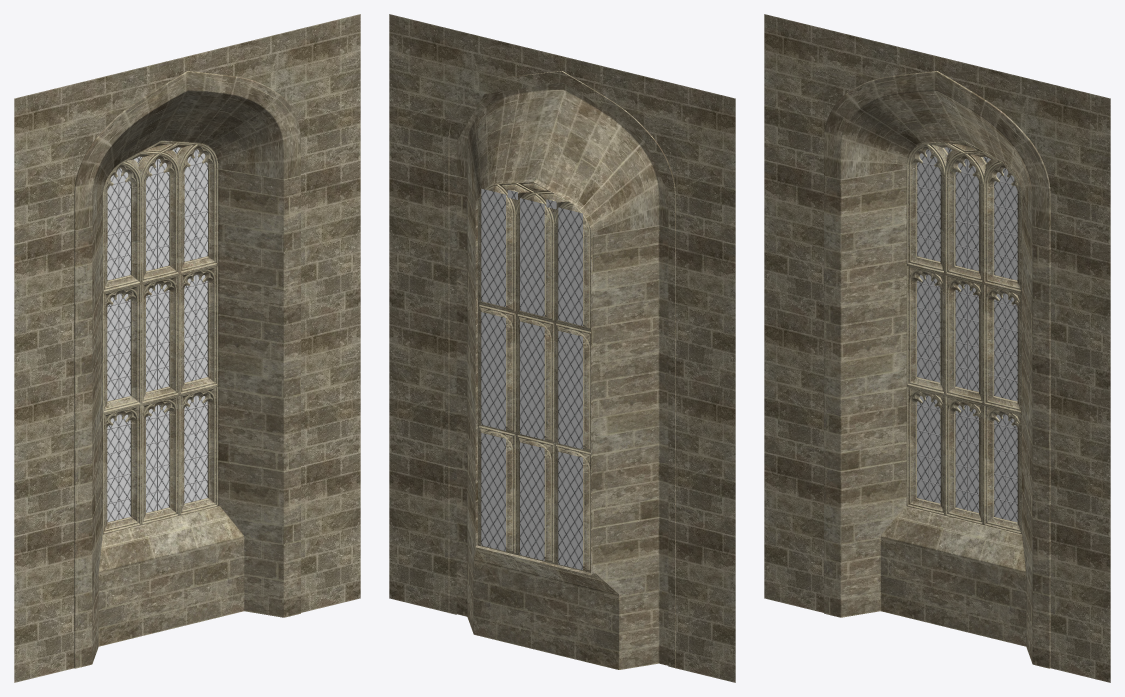
File: great_hall_window_free.glb
The picture shows the model from 3 angles, left to right: view 1: azimuth 30°, elevation 25°; view 2: azimuth 150°, elevation 25°; view 3: azimuth 330°, elevation 25°; orthographic projection.
Parts seen in each view (by area): view 1: back_wall, hole, window_mid_bottom, window_bottom_bottom, window_top_bottom, window_top_top, pane01, pane03, pane09, pane07, pane04, pane06 (+5 smaller); view 2: back_wall, hole, window_bottom_bottom, window_mid_bottom, window_top_bottom, pane02, pane03, pane04, pane05, pane09, pane01, pane06 (+5 smaller); view 3: back_wall, hole, window_mid_bottom, window_bottom_bottom, window_top_bottom, window_top_top, pane03, pane01, pane09, pane07, pane06, pane04 (+5 smaller).
Boxes of the visible parts, x1,y1,x2,y2 form: back_wall: [14, 14, 360, 682]; hole: [74, 71, 300, 668]; window_mid_bottom: [103, 283, 218, 413]; window_bottom_bottom: [103, 404, 218, 534]; window_top_bottom: [103, 168, 218, 292]; window_top_top: [103, 141, 218, 196]; pane01: [107, 168, 130, 280]; pane03: [184, 149, 207, 261]; pane09: [184, 395, 207, 503]; pane07: [107, 414, 130, 522]; pane04: [107, 293, 130, 401]; pane06: [184, 274, 207, 382]; back_wall: [389, 14, 735, 682]; hole: [448, 71, 675, 669]; window_bottom_bottom: [478, 444, 590, 572]; window_mid_bottom: [478, 323, 590, 451]; window_top_bottom: [478, 208, 593, 330]; pane02: [520, 198, 544, 316]; pane03: [481, 188, 505, 306]; pane04: [558, 331, 582, 449]; pane05: [520, 321, 544, 439]; pane09: [481, 433, 505, 551]; pane01: [558, 207, 582, 325]; pane06: [481, 312, 505, 430]; back_wall: [764, 14, 1110, 682]; hole: [824, 71, 1050, 668]; window_mid_bottom: [906, 283, 1021, 413]; window_bottom_bottom: [906, 404, 1021, 534]; window_top_bottom: [906, 168, 1021, 292]; window_top_top: [906, 141, 1021, 196]; pane03: [994, 168, 1017, 280]; pane01: [917, 149, 940, 261]; pane09: [994, 414, 1017, 522]; pane07: [917, 395, 940, 503]; pane06: [994, 293, 1017, 401]; pane04: [917, 274, 940, 382].
Bounding box in the file's own units: 4.8 × 7.73 × 0.7436.
4 materials, 4 textured.
